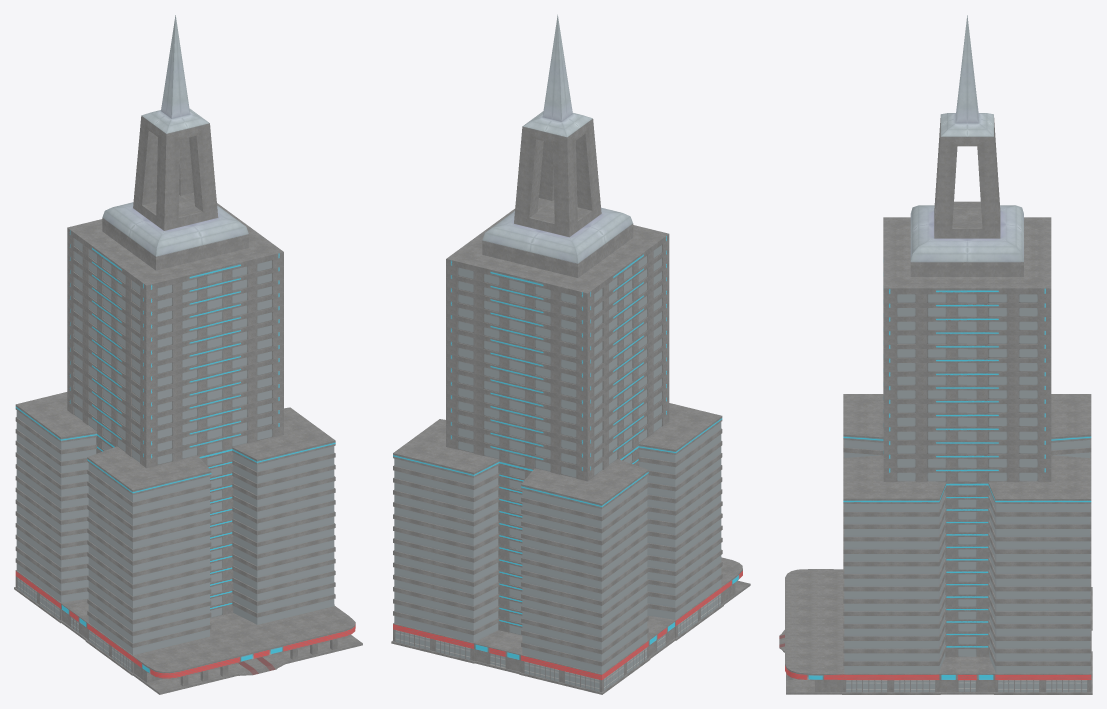
The model's file is htl-sky.glb.
The picture shows the model from 3 angles, left to right: view 1: azimuth 30°, elevation 25°; view 2: azimuth 150°, elevation 25°; view 3: azimuth 270°, elevation 25°; orthographic projection. The views are drawn at different scales.
Visible parts, largest first — view 1: skyscrapper_skyscrapper_0; view 2: skyscrapper_skyscrapper_0; view 3: skyscrapper_skyscrapper_0.
Boxes of the visible parts, box(x1,y1,x2,y2) form: skyscrapper_skyscrapper_0: box(14, 15, 362, 694); skyscrapper_skyscrapper_0: box(391, 14, 750, 694); skyscrapper_skyscrapper_0: box(779, 15, 1092, 694).
Size of the model in its own units: 10553 by 29205 by 13194.
1 material, 1 textured.
